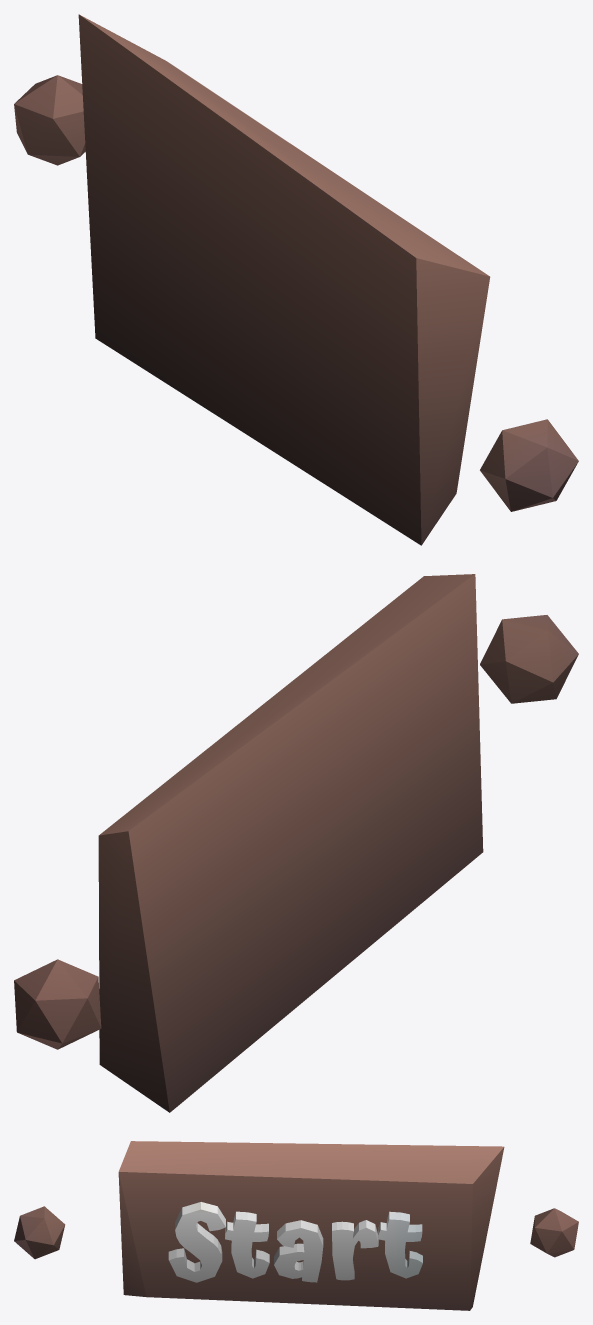
File: msja-ui-button-start.glb
3 views of the same model, one above another, from view 1: azimuth 30°, elevation 25°; view 2: azimuth 150°, elevation 25°; view 3: azimuth 270°, elevation 25° (orthographic). The views are drawn at different scales.
Visible parts, largest first — view 1: act-1-button-start; view 2: act-1-button-start; view 3: act-1-button-start.
Part boxes in pixels (x1,y1,x2,y2): act-1-button-start: [14, 14, 578, 545]; act-1-button-start: [14, 574, 578, 1112]; act-1-button-start: [14, 1141, 578, 1310].
Size of the model in its own units: 0.109 by 0.3282 by 1.
1 material, 1 textured.
